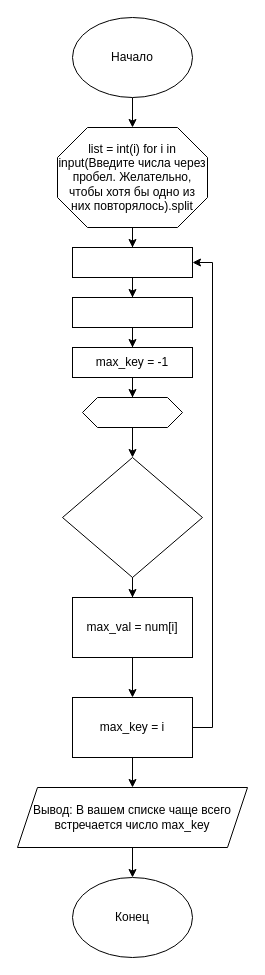
Some shapes in this 265 by 975 pixel diagram are drawn without their labels. Each missing label, with the centre of its shape:
for i in num: (132,412)
max_val = None: (132,312)
max_val is None or max_val < num[i]: (132,517)
num = Counter(list): (132,262)
